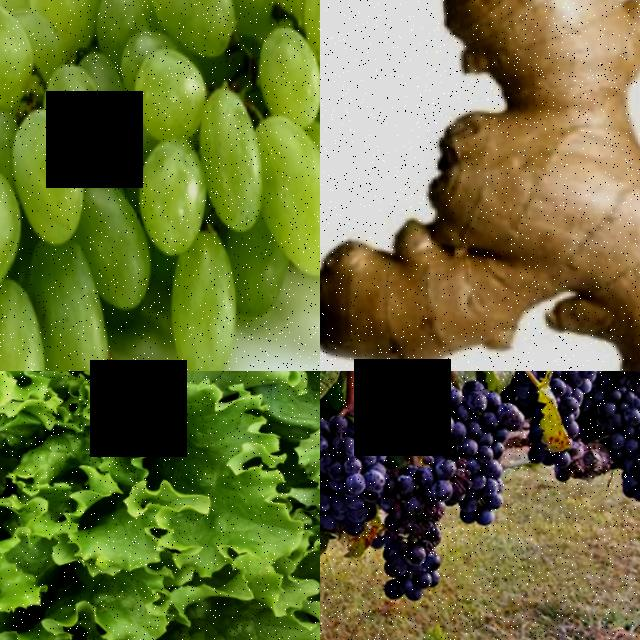ginger: (320, 0, 640, 371)
grapes: (0, 0, 320, 371), (413, 371, 549, 524), (365, 439, 484, 602), (320, 391, 410, 529), (586, 371, 640, 492)
lettuce: (0, 371, 320, 640)
